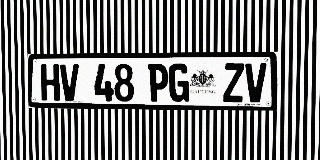4: (94, 64, 114, 101)
8: (114, 64, 134, 101)
G: (169, 63, 189, 102)
H: (41, 64, 60, 101)
P: (148, 64, 168, 102)
V: (245, 63, 267, 102), (60, 64, 79, 101)
Z: (223, 63, 244, 102)
